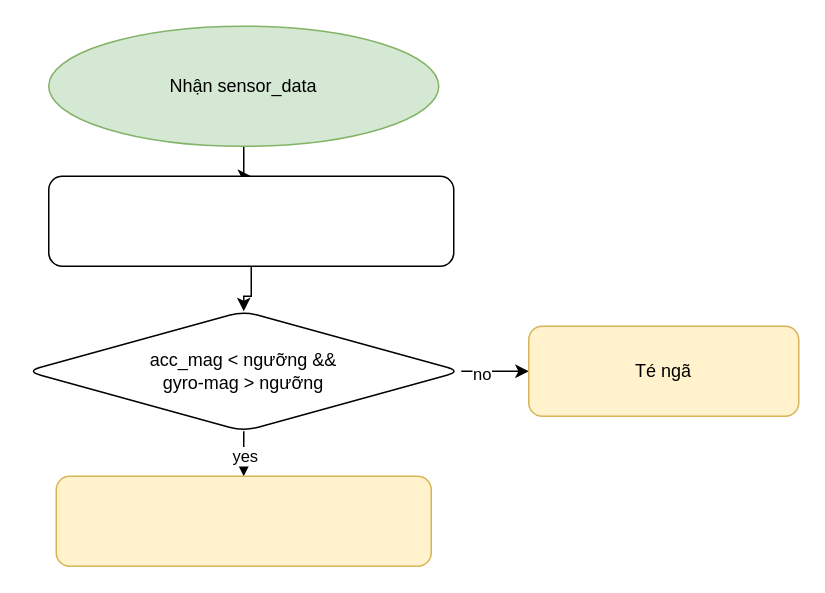
Image size: 825x593. Some labels were removed from this diagram. The shapes that lost their labels are listed below. From the top down, each one's centre as x and y in pixels, then its label:
At [250,220]: "Tính acc_mag, gyro_mag".
At [243,520]: "không té".
